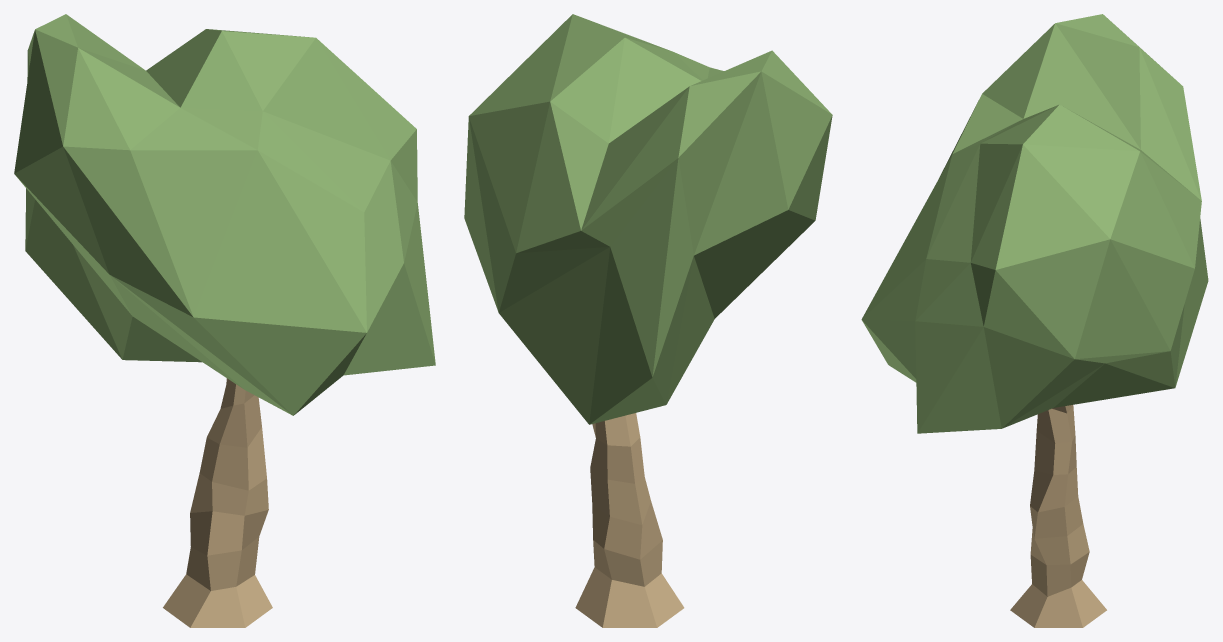
Rendered from Tree_02.fbx.
3 renders of one model, left to right at view 1: azimuth 30°, elevation 25°; view 2: azimuth 150°, elevation 25°; view 3: azimuth 270°, elevation 25°, orthographic. The views are drawn at different scales.
Visible parts, largest first — view 1: Tree_2; view 2: Tree_2; view 3: Tree_2.
Boxes of the visible parts, x1,y1,x2,y2 form: Tree_2: (14,14,435,627); Tree_2: (464,14,832,627); Tree_2: (861,14,1208,627).
Size of the model in its own units: 1346 by 2231 by 1328.
